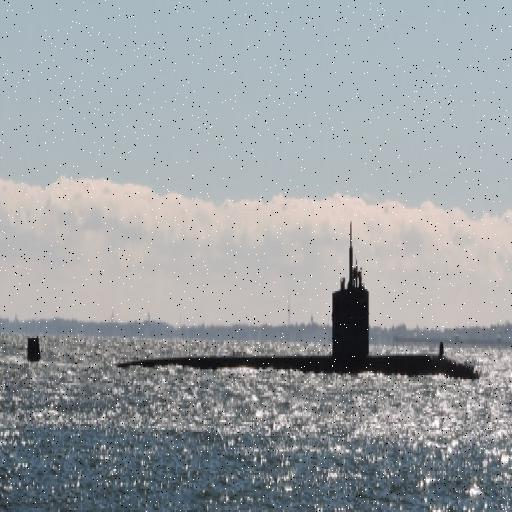submarine: (17, 286, 482, 386)
